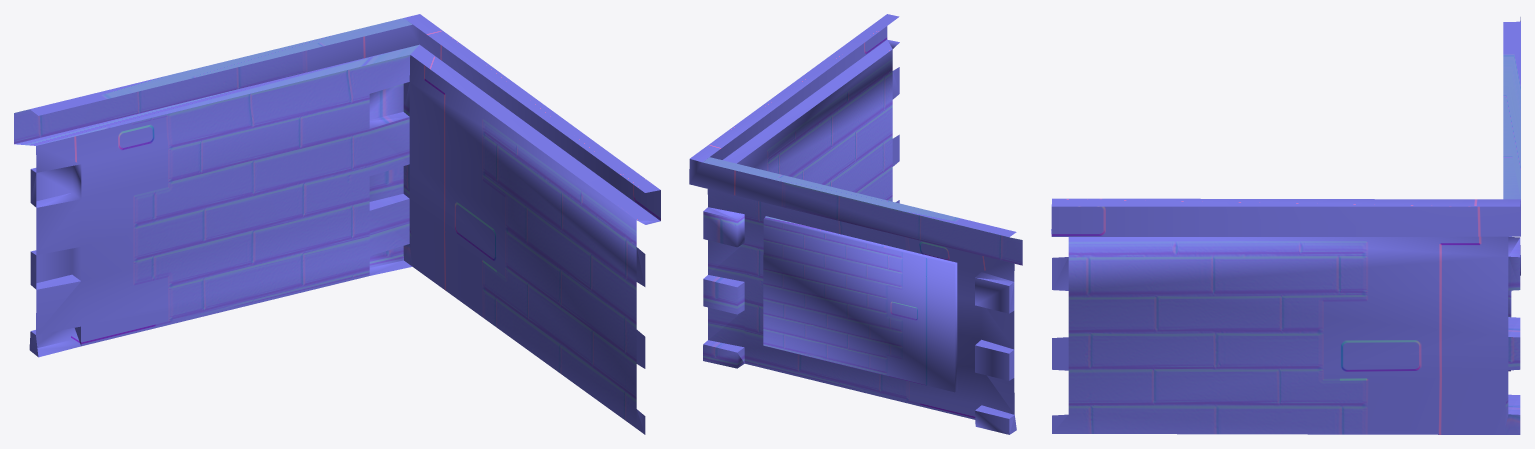
Rendered from leftupperhouse1.fbx.
3 renders of one model, left to right at view 1: azimuth 30°, elevation 25°; view 2: azimuth 150°, elevation 25°; view 3: azimuth 270°, elevation 25°, orthographic. The views are drawn at different scales.
Visible parts, largest first — view 1: UpperHouse; view 2: UpperHouse; view 3: UpperHouse.
Part boxes in pixels (x1,y1,x2,y2): UpperHouse: (14,14,660,434); UpperHouse: (689,14,1022,434); UpperHouse: (1051,17,1520,434).
Size of the model in its own units: 131 by 75.19 by 135.
